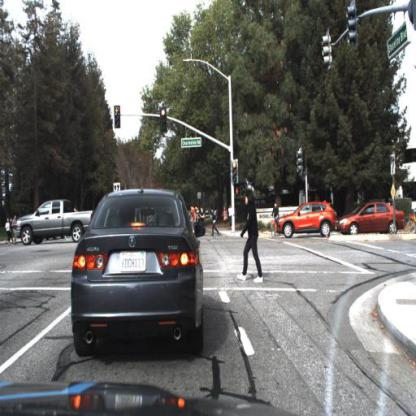biker: (270, 202, 283, 241)
car: (70, 187, 207, 358), (16, 198, 97, 249), (275, 200, 339, 242), (335, 202, 406, 239)
pedestrian: (237, 185, 268, 294), (190, 201, 207, 232), (223, 204, 235, 229), (4, 215, 13, 246), (12, 212, 20, 243), (6, 213, 13, 245), (13, 215, 20, 244), (210, 210, 217, 236)
trafficLight-Red: (231, 158, 240, 185), (159, 106, 167, 135)
trafficLight-RedLeft: (114, 103, 122, 129)
